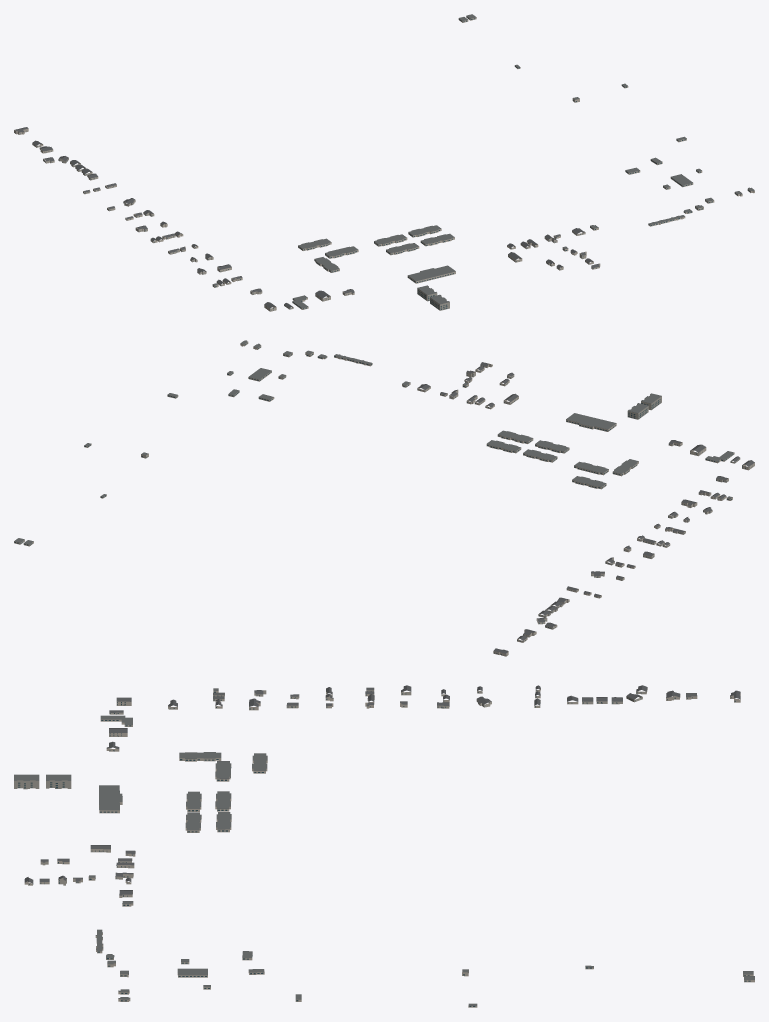
3 views of the same model, one above another, from view 1: azimuth 30°, elevation 25°; view 2: azimuth 150°, elevation 25°; view 3: azimuth 270°, elevation 25° (orthographic). The views are drawn at different scales.
Parts seen in each view (by area): view 1: Buildings (-5, 1) Roof membrane, Buildings (-5, 1) Masonry brick, Buildings (-5, 1) Roof shingles, Buildings (-5, 1) Architectural tinted glass, Buildings (-5, 1) House siding; view 2: Buildings (-5, 1) Roof membrane, Buildings (-5, 1) Masonry brick, Buildings (-5, 1) Roof shingles, Buildings (-5, 1) Architectural tinted glass, Buildings (-5, 1) House siding; view 3: Buildings (-5, 1) Roof membrane, Buildings (-5, 1) Masonry brick, Buildings (-5, 1) Roof shingles, Buildings (-5, 1) House siding, Buildings (-5, 1) Architectural tinted glass.
Part boxes in pixels (x1,y1,x2,y2): Buildings (-5, 1) Roof membrane: (213,14,754,308); Buildings (-5, 1) Masonry brick: (14,16,754,311); Buildings (-5, 1) Roof shingles: (15,127,599,308); Buildings (-5, 1) Architectural tinted glass: (20,16,749,310); Buildings (-5, 1) House siding: (43,158,586,309); Buildings (-5, 1) Roof membrane: (14,340,733,544); Buildings (-5, 1) Masonry brick: (14,342,754,656); Buildings (-5, 1) Roof shingles: (418,362,754,653); Buildings (-5, 1) Architectural tinted glass: (14,343,752,655); Buildings (-5, 1) House siding: (449,371,740,629); Buildings (-5, 1) Roof membrane: (14,688,754,1005); Buildings (-5, 1) Masonry brick: (24,688,754,1007); Buildings (-5, 1) Roof shingles: (24,685,740,895); Buildings (-5, 1) House siding: (40,687,647,885); Buildings (-5, 1) Architectural tinted glass: (18,690,750,1006).
Size of the model in its own units: 1005 by 12.75 by 986.
